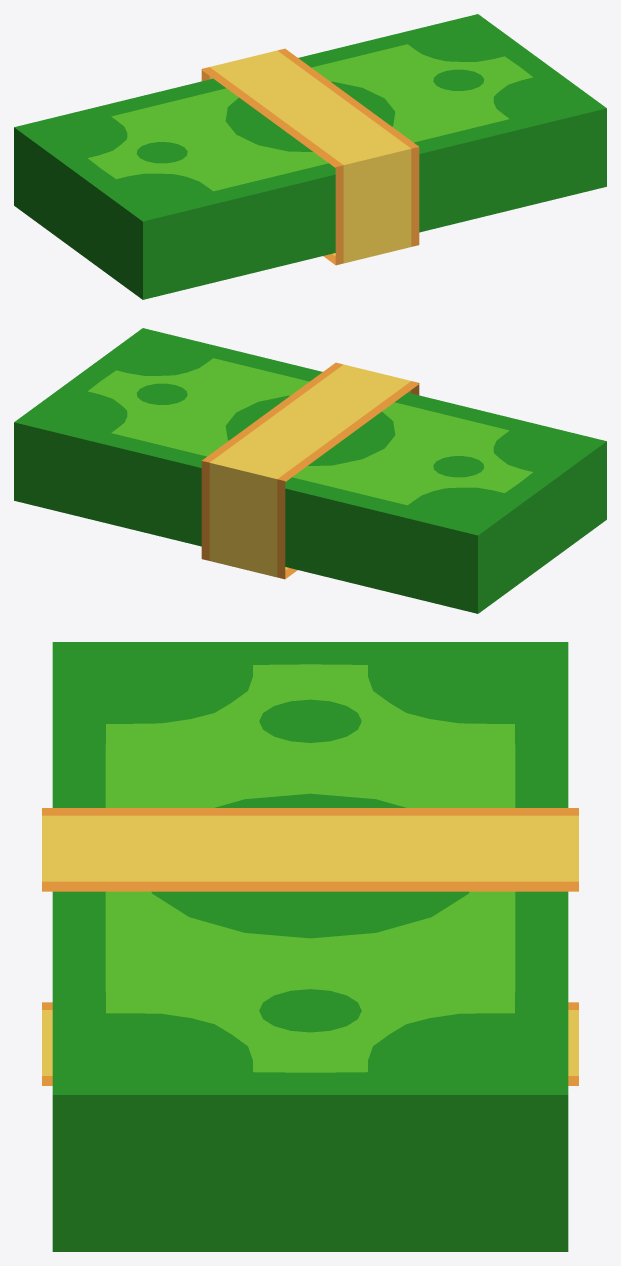
The model's file is Cash.fbx.
The picture shows the model from 3 angles, top to bottom: view 1: azimuth 30°, elevation 25°; view 2: azimuth 150°, elevation 25°; view 3: azimuth 270°, elevation 25°; orthographic projection. The views are drawn at different scales.
Visible parts, largest first — view 1: Cash; view 2: Cash; view 3: Cash.
Part boxes in pixels (x1=…): Cash: x1=14, y1=14, x2=606, y2=299; Cash: x1=14, y1=328, x2=606, y2=613; Cash: x1=42, y1=642, x2=578, y2=1251.
Size of the model in its own units: 50.07 by 10.13 by 25.08.
